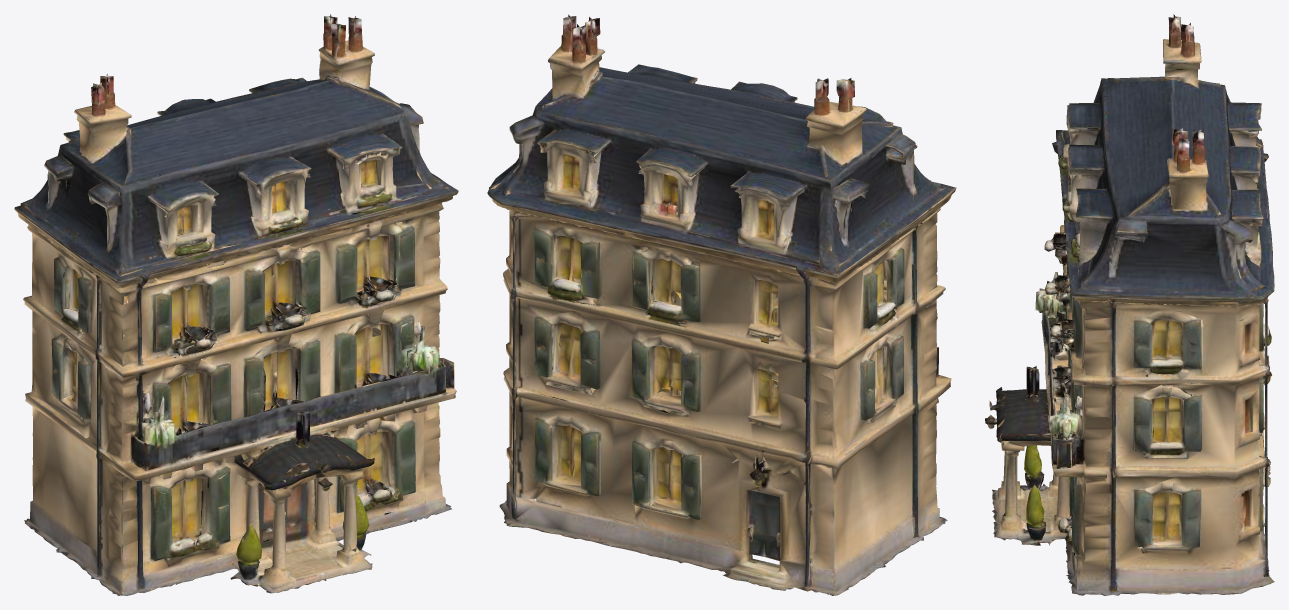
File: hotel_3.glb
The picture shows the model from 3 angles, left to right: view 1: azimuth 30°, elevation 25°; view 2: azimuth 150°, elevation 25°; view 3: azimuth 270°, elevation 25°; orthographic projection. The views are drawn at different scales.
Parts seen in each view (by area): view 1: classic__hotel_3__neural_lod; view 2: classic__hotel_3__neural_lod; view 3: classic__hotel_3__neural_lod.
Part boxes in pixels (bbox=[...]): classic__hotel_3__neural_lod: bbox=[14, 14, 458, 595]; classic__hotel_3__neural_lod: bbox=[487, 14, 956, 595]; classic__hotel_3__neural_lod: bbox=[985, 14, 1274, 595].
Bounding box in the file's own units: 0.6983 × 0.8795 × 0.5255.
1 material, 1 textured.
